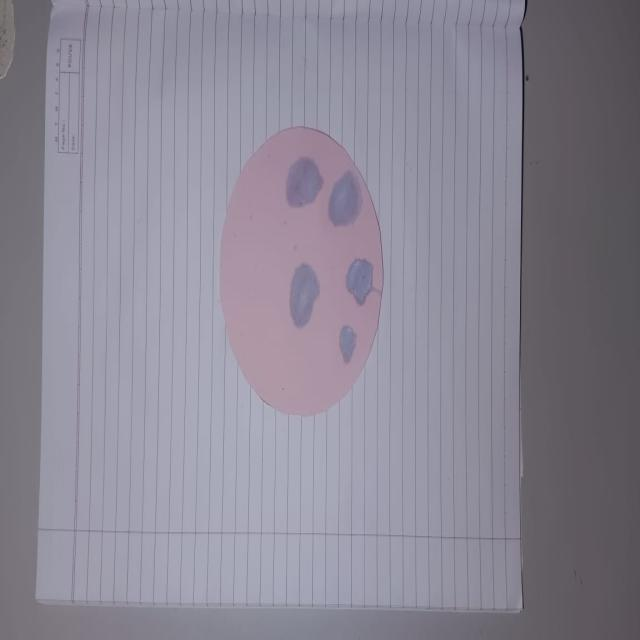BlueColor: (290, 263, 319, 328), (329, 170, 362, 225), (286, 157, 323, 206), (347, 259, 373, 304), (339, 325, 356, 362)
